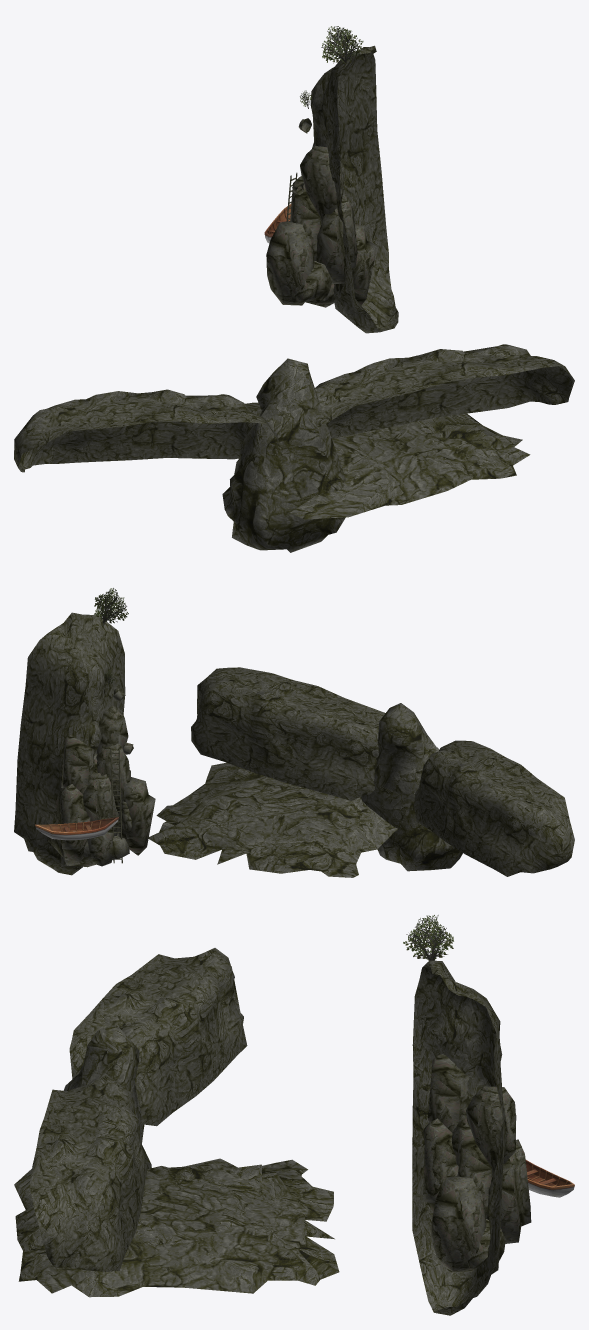
The model's file is Envir1.fbx.
3 views of the same model, one above another, from view 1: azimuth 30°, elevation 25°; view 2: azimuth 150°, elevation 25°; view 3: azimuth 270°, elevation 25° (orthographic). The views are drawn at different scales.
Parts seen in each view (by area): view 1: CliffEdge, CliffBoulderHigh, CliffEdge (1), CliffIslandLow, CliffEdge (2), AEP_Rock_04_GRP_01, AEP_Rock_04_GRP_01 (1), Bush2; view 2: CliffEdge, CliffIslandLow, CliffEdge (2), CliffEdge (1), CliffBoulderHigh, AEP_Rock_04_GRP_01 (1), AEP_Rock_04_GRP_01, Boat, Bush2, TI_Ladder_01; view 3: CliffIslandLow, CliffEdge, CliffEdge (1), CliffEdge (2), AEP_Rock_04_GRP_01 (1), AEP_Rock_04_GRP_01, CliffBoulderHigh, Bush2, Boat.
Part boxes in pixels (bbox=[...]): CliffEdge: bbox=[315, 344, 574, 438]; CliffBoulderHigh: bbox=[222, 358, 345, 552]; CliffEdge (1): bbox=[14, 389, 278, 472]; CliffIslandLow: bbox=[239, 402, 530, 519]; CliffEdge (2): bbox=[310, 45, 398, 333]; AEP_Rock_04_GRP_01: bbox=[266, 146, 357, 305]; AEP_Rock_04_GRP_01 (1): bbox=[305, 224, 376, 307]; Bush2: bbox=[321, 26, 363, 64]; CliffEdge: bbox=[191, 667, 385, 800]; CliffIslandLow: bbox=[148, 762, 397, 877]; CliffEdge (2): bbox=[14, 612, 125, 875]; CliffEdge (1): bbox=[414, 740, 574, 876]; CliffBoulderHigh: bbox=[361, 703, 462, 871]; AEP_Rock_04_GRP_01 (1): bbox=[48, 734, 129, 867]; AEP_Rock_04_GRP_01: bbox=[93, 705, 155, 855]; Boat: bbox=[35, 817, 118, 840]; Bush2: bbox=[94, 588, 128, 625]; TI_Ladder_01: bbox=[110, 748, 122, 863]; CliffIslandLow: bbox=[14, 1158, 339, 1297]; CliffEdge: bbox=[29, 1073, 147, 1271]; CliffEdge (1): bbox=[69, 948, 247, 1126]; CliffEdge (2): bbox=[412, 960, 507, 1315]; AEP_Rock_04_GRP_01 (1): bbox=[429, 1086, 531, 1272]; AEP_Rock_04_GRP_01: bbox=[422, 1054, 488, 1215]; CliffBoulderHigh: bbox=[64, 1026, 151, 1168]; Bush2: bbox=[403, 915, 453, 960]; Boat: bbox=[525, 1160, 574, 1197].
Size of what is drawn, in the model's own units: 36.72 by 26.16 by 31.11.
